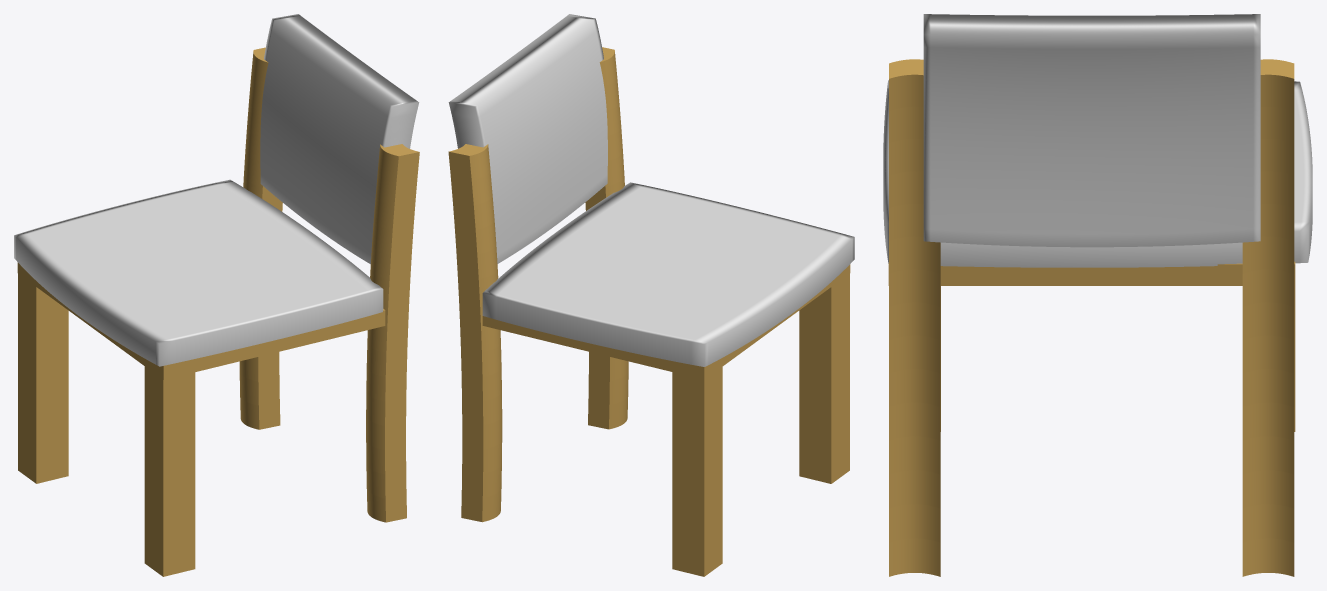
File: chair.fbx
The picture shows the model from 3 angles, left to right: view 1: azimuth 30°, elevation 25°; view 2: azimuth 150°, elevation 25°; view 3: azimuth 270°, elevation 25°; orthographic projection. The views are drawn at different scales.
Visible parts, largest first — view 1: 曲面片; view 2: 曲面片; view 3: 曲面片.
Part boxes in pixels (left/top/right/bottom): 曲面片: left=14, top=14, right=419, bottom=576; 曲面片: left=448, top=14, right=854, bottom=576; 曲面片: left=883, top=14, right=1312, bottom=576.
Bounding box in the file's own units: 526 × 720 × 499.
